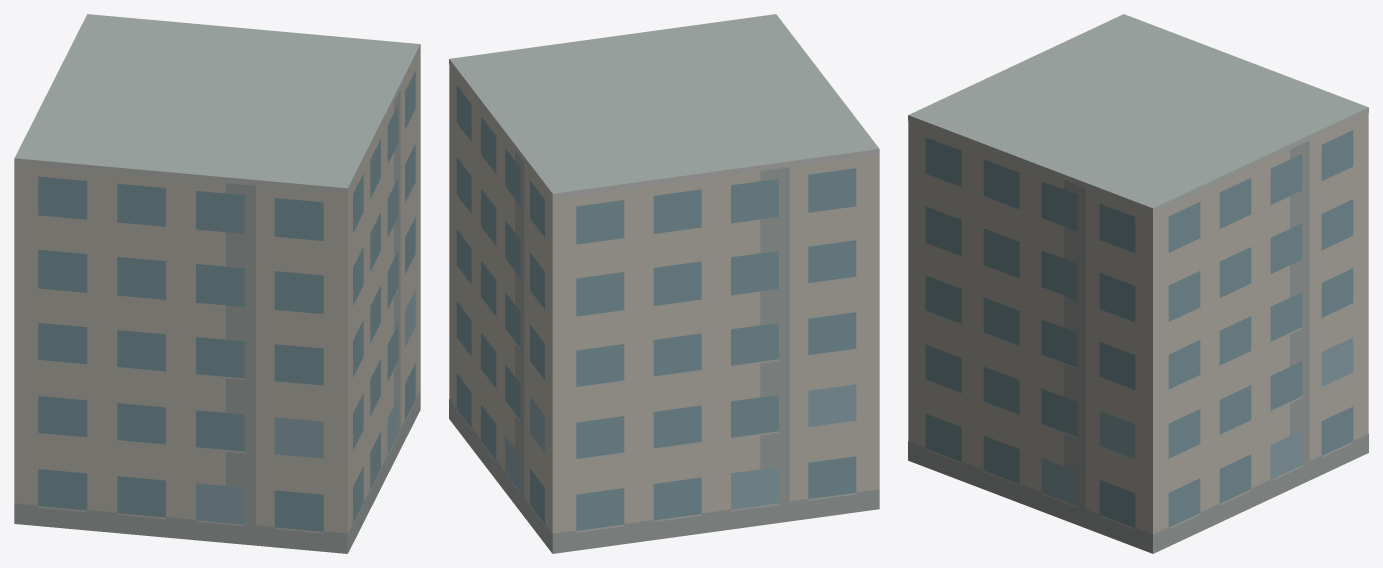
The model's file is residential-0b901ef2-5160-477d-8541-63564487bb91.glb.
3 renders of one model, left to right at view 1: azimuth 30°, elevation 25°; view 2: azimuth 150°, elevation 25°; view 3: azimuth 270°, elevation 25°, orthographic. The views are drawn at different scales.
Parts seen in each view (by area): view 1: residential-0b901ef2-5160-477d-8541-63564487bb91.tmp; view 2: residential-0b901ef2-5160-477d-8541-63564487bb91.tmp; view 3: residential-0b901ef2-5160-477d-8541-63564487bb91.tmp.
Boxes of the visible parts, x1=… form: residential-0b901ef2-5160-477d-8541-63564487bb91.tmp: x1=14, y1=14, x2=420, y2=553; residential-0b901ef2-5160-477d-8541-63564487bb91.tmp: x1=449, y1=14, x2=879, y2=553; residential-0b901ef2-5160-477d-8541-63564487bb91.tmp: x1=908, y1=14, x2=1368, y2=553.
Bounding box in the file's own units: 18.41 × 15.25 × 18.43.
